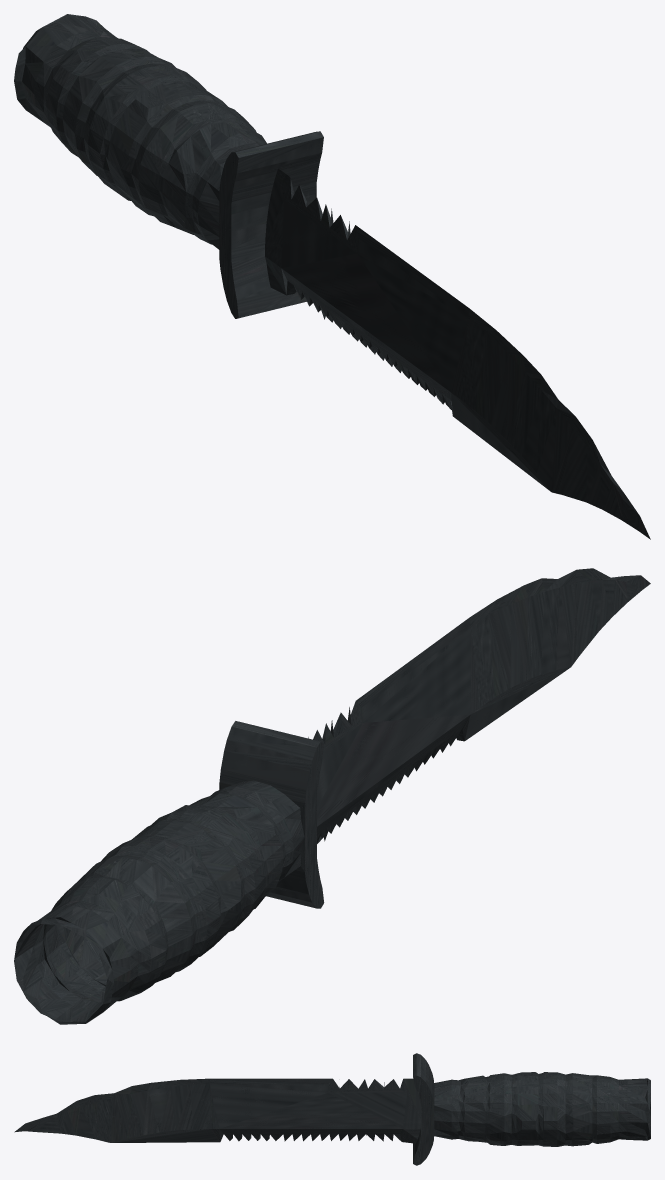
The model's file is model_align.obj.
3 renders of one model, top to bottom at view 1: azimuth 30°, elevation 25°; view 2: azimuth 150°, elevation 25°; view 3: azimuth 270°, elevation 25°, orthographic. The views are drawn at different scales.
Size of the model in its own units: 0.0251 by 0.0332 by 0.2123.
Materials: 1 (1 with a texture image).
